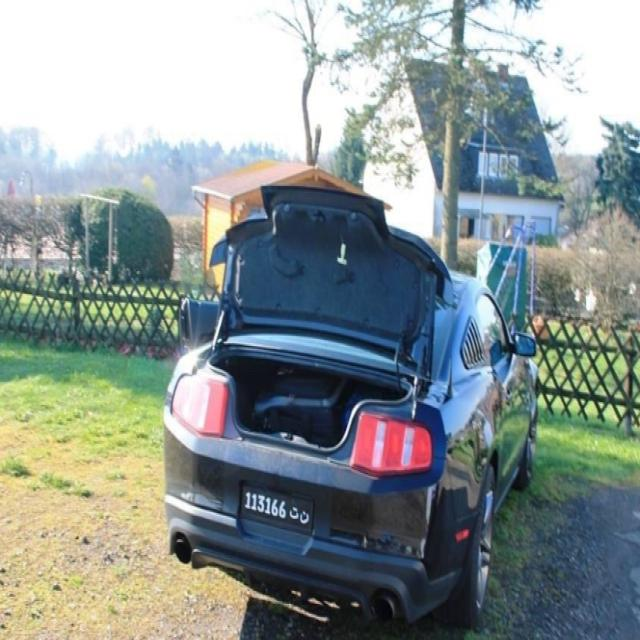licence plate: (243, 487, 312, 532)
